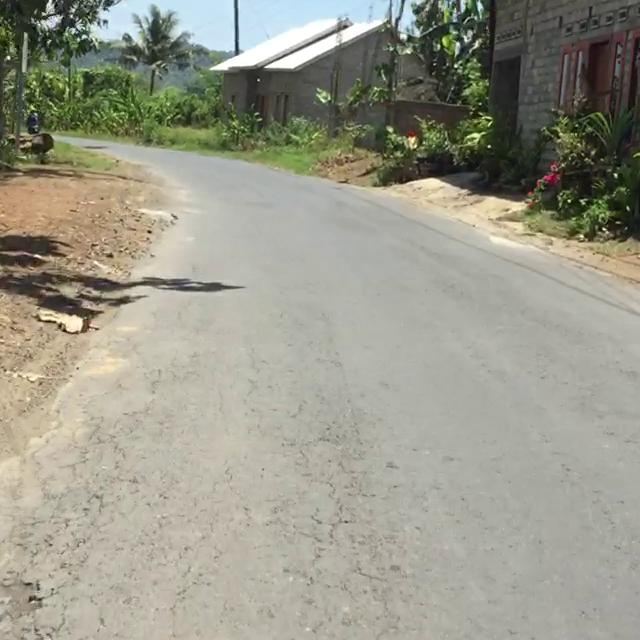retak_kulit_buaya: (246, 403, 404, 623), (33, 370, 179, 544)
